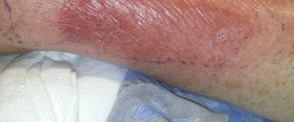SJS-TEN: (0, 0, 294, 112)
